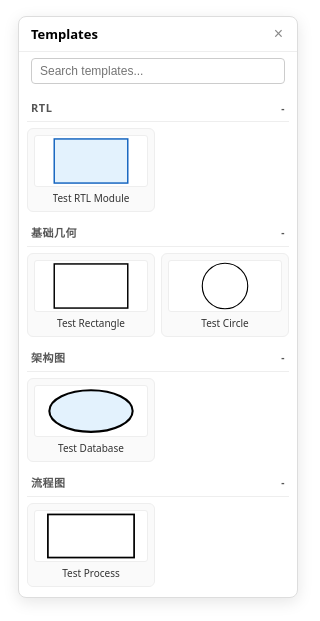
Test case: TemplatePanel › dismisses panel when close button is clicked
Click the button named "Close template panel": (278, 34) top-left (272, 26), bottom-right (285, 42)
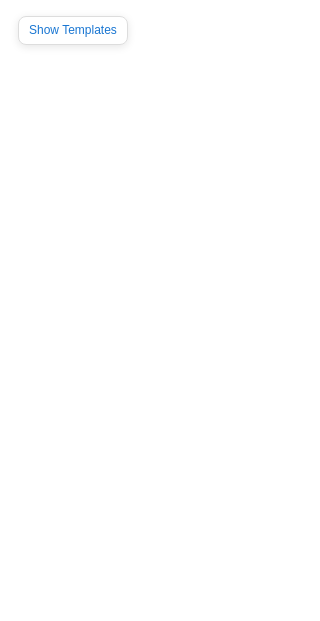
Check: the button "Show Templates" is shown, box top-left (29, 23), bottom-right (117, 37)
